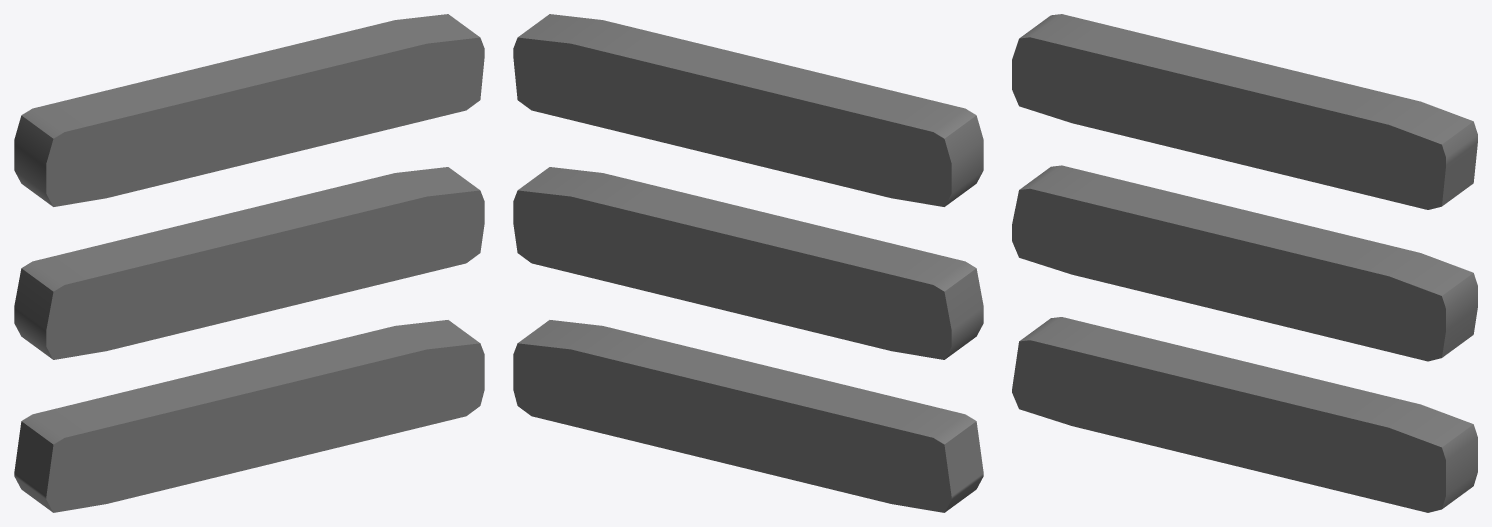
File: fa-bars.obj
3 views of the same model, side by side, from view 1: azimuth 30°, elevation 25°; view 2: azimuth 150°, elevation 25°; view 3: azimuth 330°, elevation 25° (orthographic).
Bounding box in the file's own units: 0.9071 × 0.7559 × 0.1152.
Materials: 1 (1 with a texture image).
